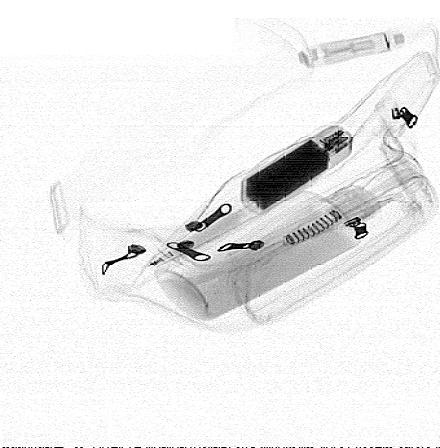Powerbank: (241, 125, 355, 215)
